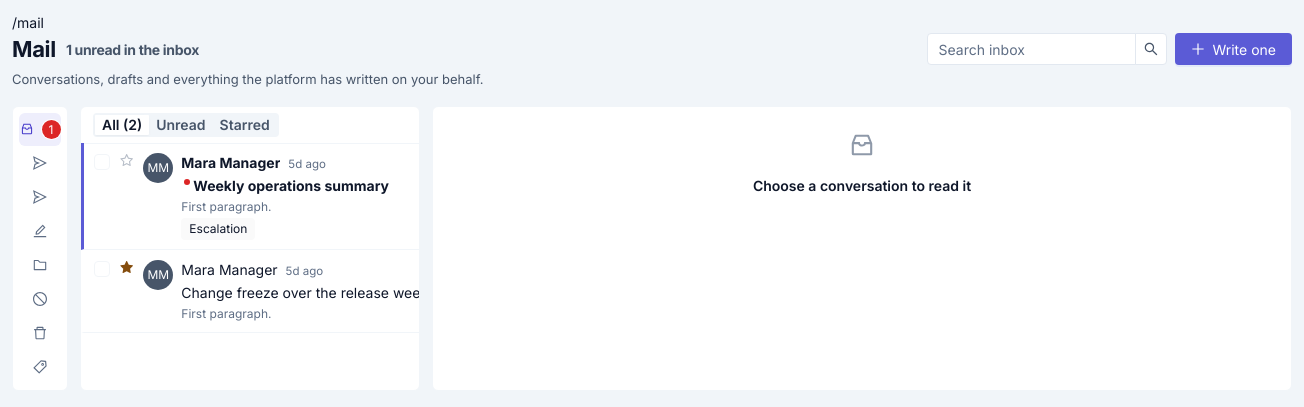
Test case: the mailbox › keeps the folder in the address, so a mailbox view is a link
The image size is (1304, 407).
Check: the navigation bar with test id "mail-folders" is shown, box [19,112,61,384]
What coordinates should you click on to do the following:
click the button with test id "folder-DRAFTS"
I would click on:
 (40, 231)
Its box is [19,214,61,248].
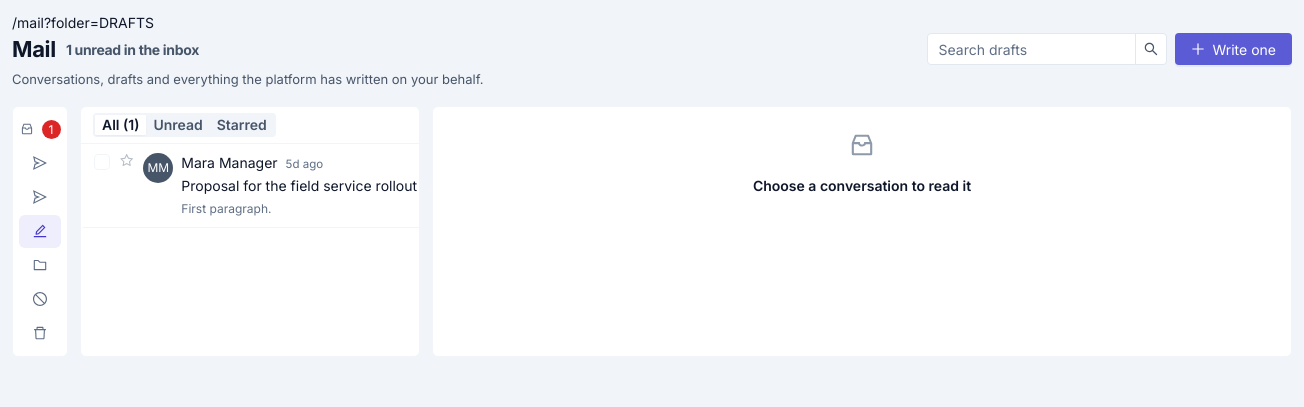
Check: the text with test id "address" shows "folder=DRAFTS", box [12,14,154,31]
Check: the text "Proposal for the field service rollout" is shown, box [181,175,417,196]
